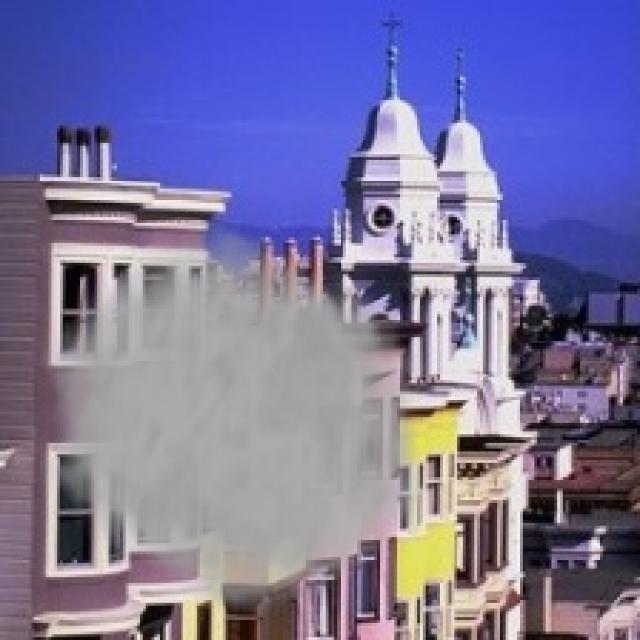Smoke: (40, 211, 443, 626)
